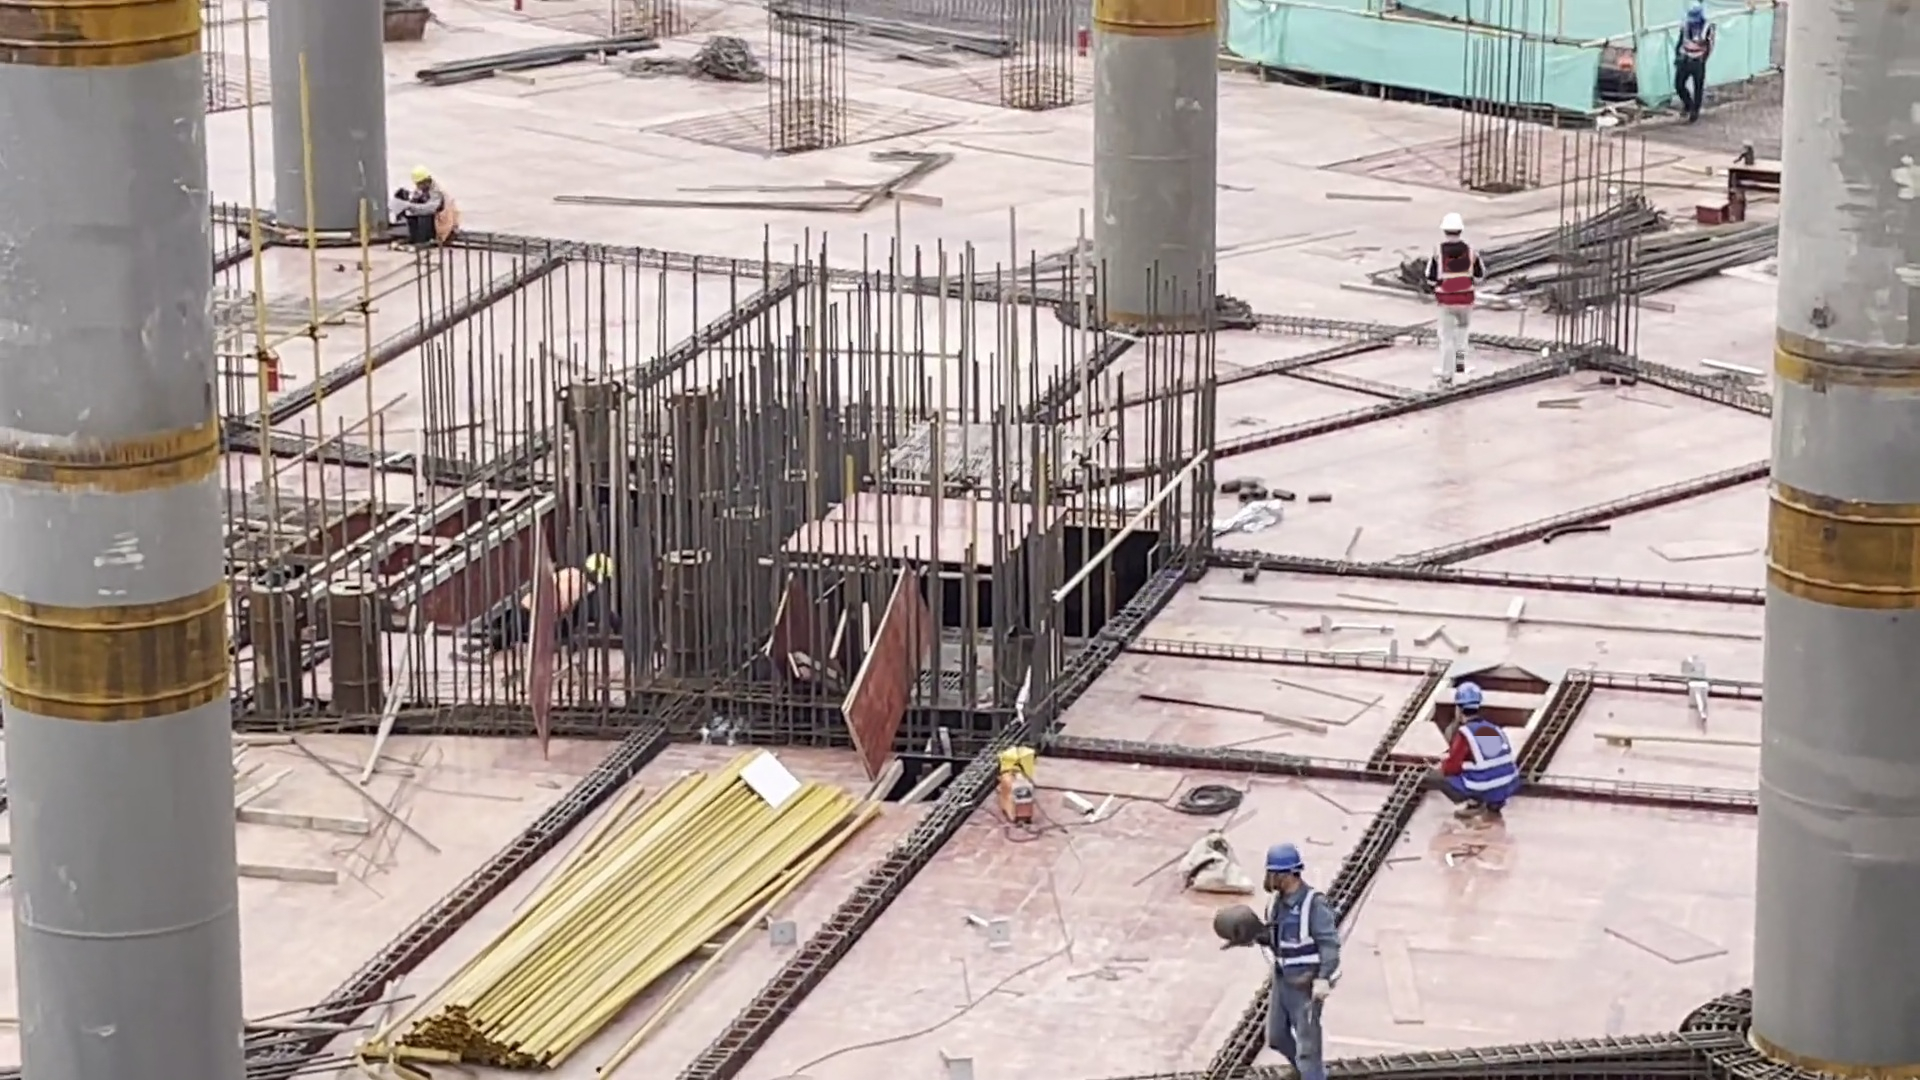helmet: (1262, 844, 1305, 871), (1454, 683, 1482, 706), (1439, 211, 1467, 234), (1683, 2, 1704, 22), (412, 164, 431, 182)
person: (1253, 845, 1346, 1070), (1418, 677, 1524, 819), (1420, 205, 1486, 390), (1669, 1, 1711, 134), (398, 161, 457, 236)
vest: (1270, 881, 1335, 986), (1456, 722, 1523, 801), (1436, 241, 1478, 308), (1678, 21, 1719, 68)
